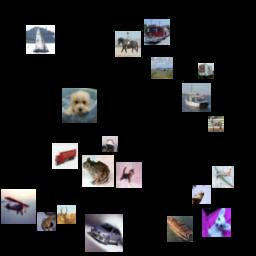airplane: (1, 189, 36, 224), (212, 166, 234, 188), (151, 57, 173, 79)
automobile: (85, 214, 123, 252)
cat: (116, 162, 142, 188)
deer: (57, 205, 76, 224), (192, 185, 211, 204)
dog: (62, 88, 97, 123), (202, 208, 231, 237)
frog: (82, 155, 114, 187), (37, 212, 56, 231)
ship: (26, 25, 55, 54), (182, 83, 211, 112), (167, 216, 193, 242), (102, 136, 118, 152)
truck: (144, 19, 170, 45), (52, 143, 78, 169), (198, 63, 214, 79)
